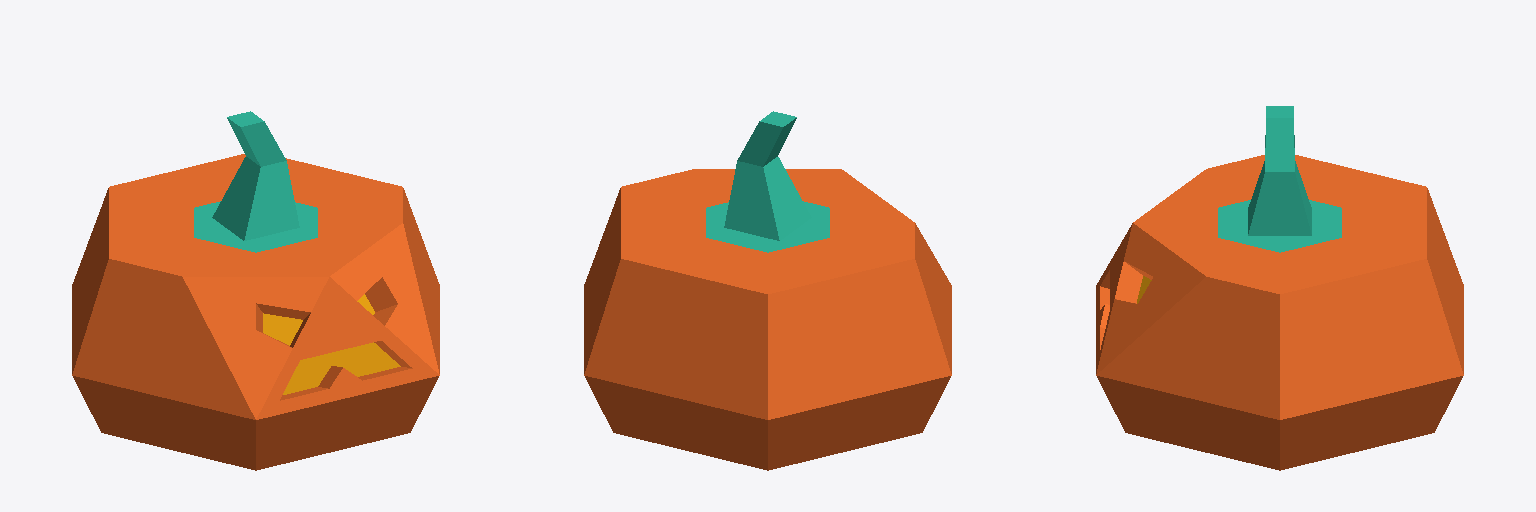
The model's file is pumpkinCarved.obj.
3 renders of one model, left to right at view 1: azimuth 30°, elevation 25°; view 2: azimuth 150°, elevation 25°; view 3: azimuth 270°, elevation 25°, orthographic.
Parts seen in each view (by area): view 1: pumpkinCarved; view 2: pumpkinCarved; view 3: pumpkinCarved.
Part boxes in pixels (x1,y1,x2,y2): pumpkinCarved: (72,111,439,470); pumpkinCarved: (584,111,951,470); pumpkinCarved: (1096,106,1463,470).
Bounding box in the file's own units: 0.357 × 0.2583 × 0.3092.